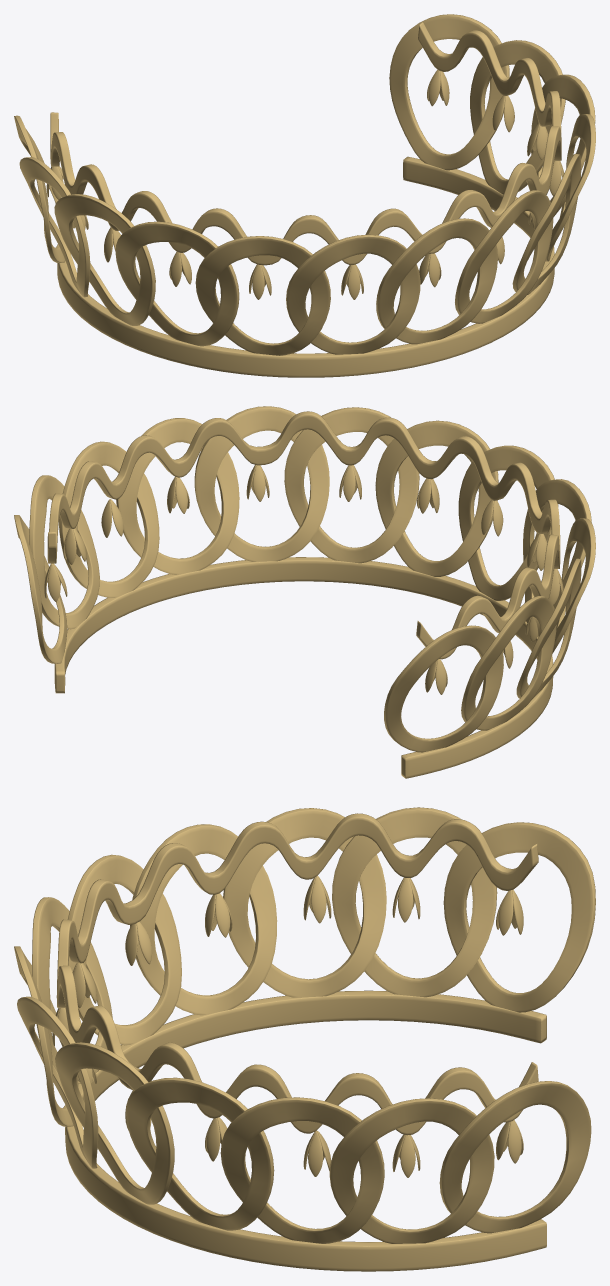
Rendered from Crown_Base.fbx.
3 renders of one model, top to bottom at view 1: azimuth 30°, elevation 25°; view 2: azimuth 150°, elevation 25°; view 3: azimuth 270°, elevation 25°, orthographic. The views are drawn at different scales.
Visible parts, largest first — view 1: Crown_Base003:polySurface352; view 2: Crown_Base003:polySurface352; view 3: Crown_Base003:polySurface352.
Boxes of the visible parts, bbox=[...] form: Crown_Base003:polySurface352: bbox=[14, 14, 595, 377]; Crown_Base003:polySurface352: bbox=[14, 406, 595, 778]; Crown_Base003:polySurface352: bbox=[14, 807, 595, 1271].
Size of the model in its own units: 44.77 by 13.74 by 36.46.
